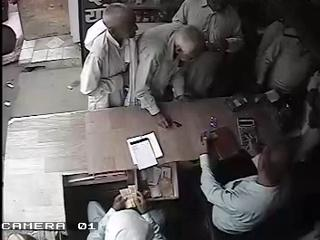Normal: (198, 128, 294, 239), (132, 23, 205, 128), (182, 1, 247, 100), (255, 1, 318, 95), (88, 185, 168, 240), (172, 0, 212, 31)
shoplifting: (79, 3, 139, 111)
